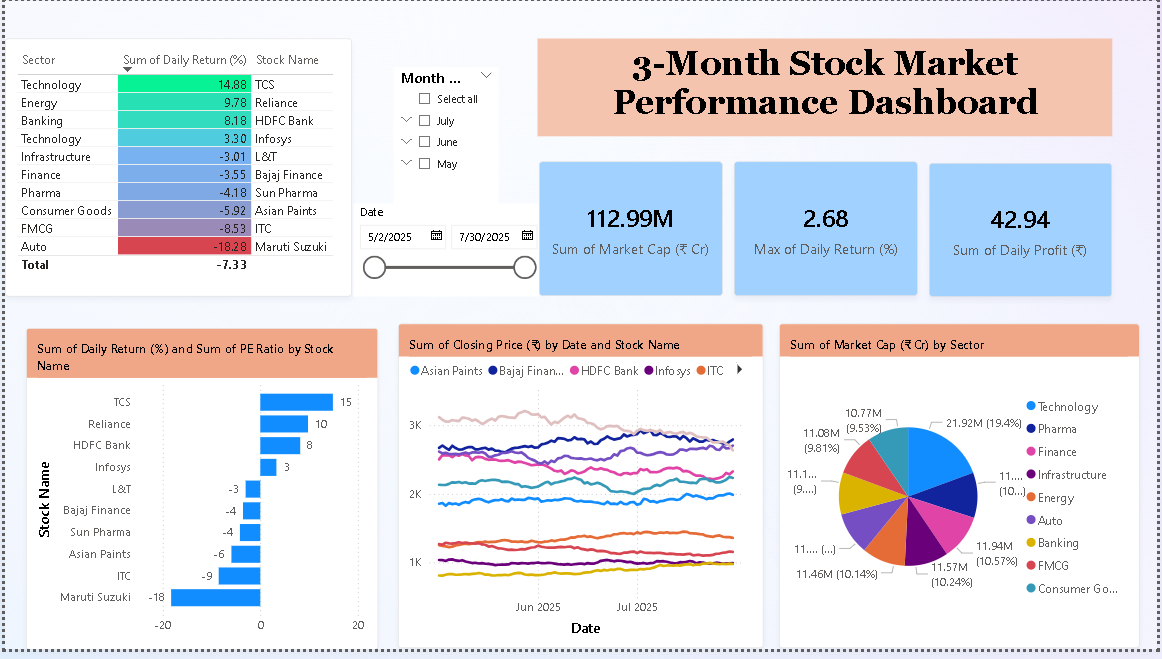

Layout of this report page (visuals, bound fields, positions):
{"tool":"powerbi","page":{"name":"Page 1","canvas":[1280,720],"ordinal":0},"visuals":[{"type":"lineChart","fields":{"Category":["Sheet1.Date"],"Series":["Sheet1.Stock Name"],"Y":["Sum(Sheet1.Closing Price (₹))"]},"box":[436.5,359.1,406.3,360.9],"z":0},{"type":"barChart","fields":{"Y":["Sum(Sheet1.Daily Profit (₹))"],"Category":["Sheet1.Stock Name"]},"box":[22.7,362.8,391.2,357.2],"z":1000},{"type":"pieChart","fields":{"Category":["Sheet1.Sector"],"Y":["Sum(Sheet1.Market Cap (₹ Cr))"]},"box":[859.8,359.1,400.6,360.9],"z":2000},{"type":"card","fields":{"Values":["Sum(Sheet1.Market Cap (₹ Cr))"]},"box":[593.4,177.6,204.1,149.3],"z":3000},{"type":"slicer","fields":{"Values":["Sheet1.Month Name","Sheet1.Sector"]},"box":[401.6,42.1,176.5,183],"z":4000},{"type":"slicer","fields":{"Values":["Sheet1.Date"]},"box":[386.7,225,206.7,103.3],"z":5000},{"type":"card","fields":{"Values":["Max(Sheet1.Daily Return (%))"]},"box":[810.7,177.6,204.1,149.3],"z":6000},{"type":"tableEx","fields":{"Values":["Sheet1.Sector","Sum(Sheet1.Daily Return (%))","Sheet1.Stock Name"]},"box":[0,41.7,385,286.7],"z":7000},{"type":"card","fields":{"Values":["Sum(Sheet1.Daily Profit (₹))"]},"box":[1026.7,180,203.3,148.3],"z":8000},{"type":"textbox","box":[591.7,41.7,638.3,108.3],"z":9000}]}

Visuals, with their boxes in screenshot pixels (x1, y1, x2, y2), scaled from the page's 1280x720 canvas onto the 1162x659 screenshot:
lineChart - Sheet1.Date x Sheet1.Stock Name: region(396, 329, 765, 658)
barChart - Sum(Sheet1.Daily Profit (₹)) x Sheet1.Stock Name: region(21, 332, 376, 658)
pieChart - Sheet1.Sector x Sum(Sheet1.Market Cap (₹ Cr)): region(781, 329, 1144, 658)
card - Sum(Sheet1.Market Cap (₹ Cr)): region(539, 163, 724, 299)
slicer - Sheet1.Month Name x Sheet1.Sector: region(365, 39, 525, 206)
slicer - Sheet1.Date: region(351, 206, 539, 300)
card - Max(Sheet1.Daily Return (%)): region(736, 163, 921, 299)
tableEx - Sheet1.Sector x Sum(Sheet1.Daily Return (%)): region(0, 38, 350, 301)
card - Sum(Sheet1.Daily Profit (₹)): region(932, 165, 1117, 300)
textbox: region(537, 38, 1117, 137)
